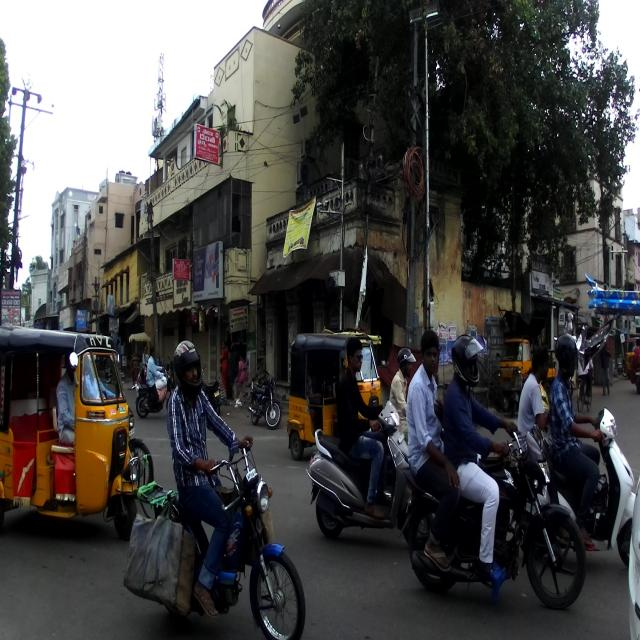autorickshaw: (0, 322, 140, 540), (285, 327, 383, 462), (498, 332, 556, 416)
motorcycle: (131, 440, 307, 639), (397, 423, 586, 608), (134, 362, 174, 421), (128, 401, 155, 485), (247, 368, 282, 429)
scooter: (304, 398, 414, 538), (554, 405, 636, 566)
